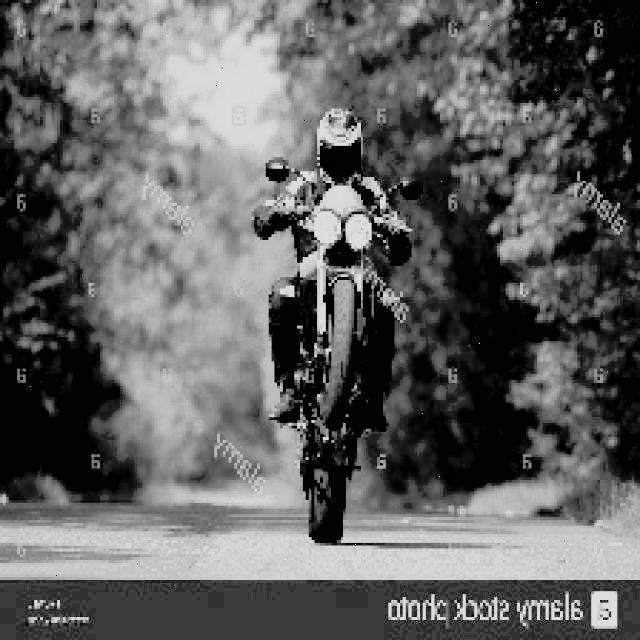Bike: (282, 185, 390, 549)
